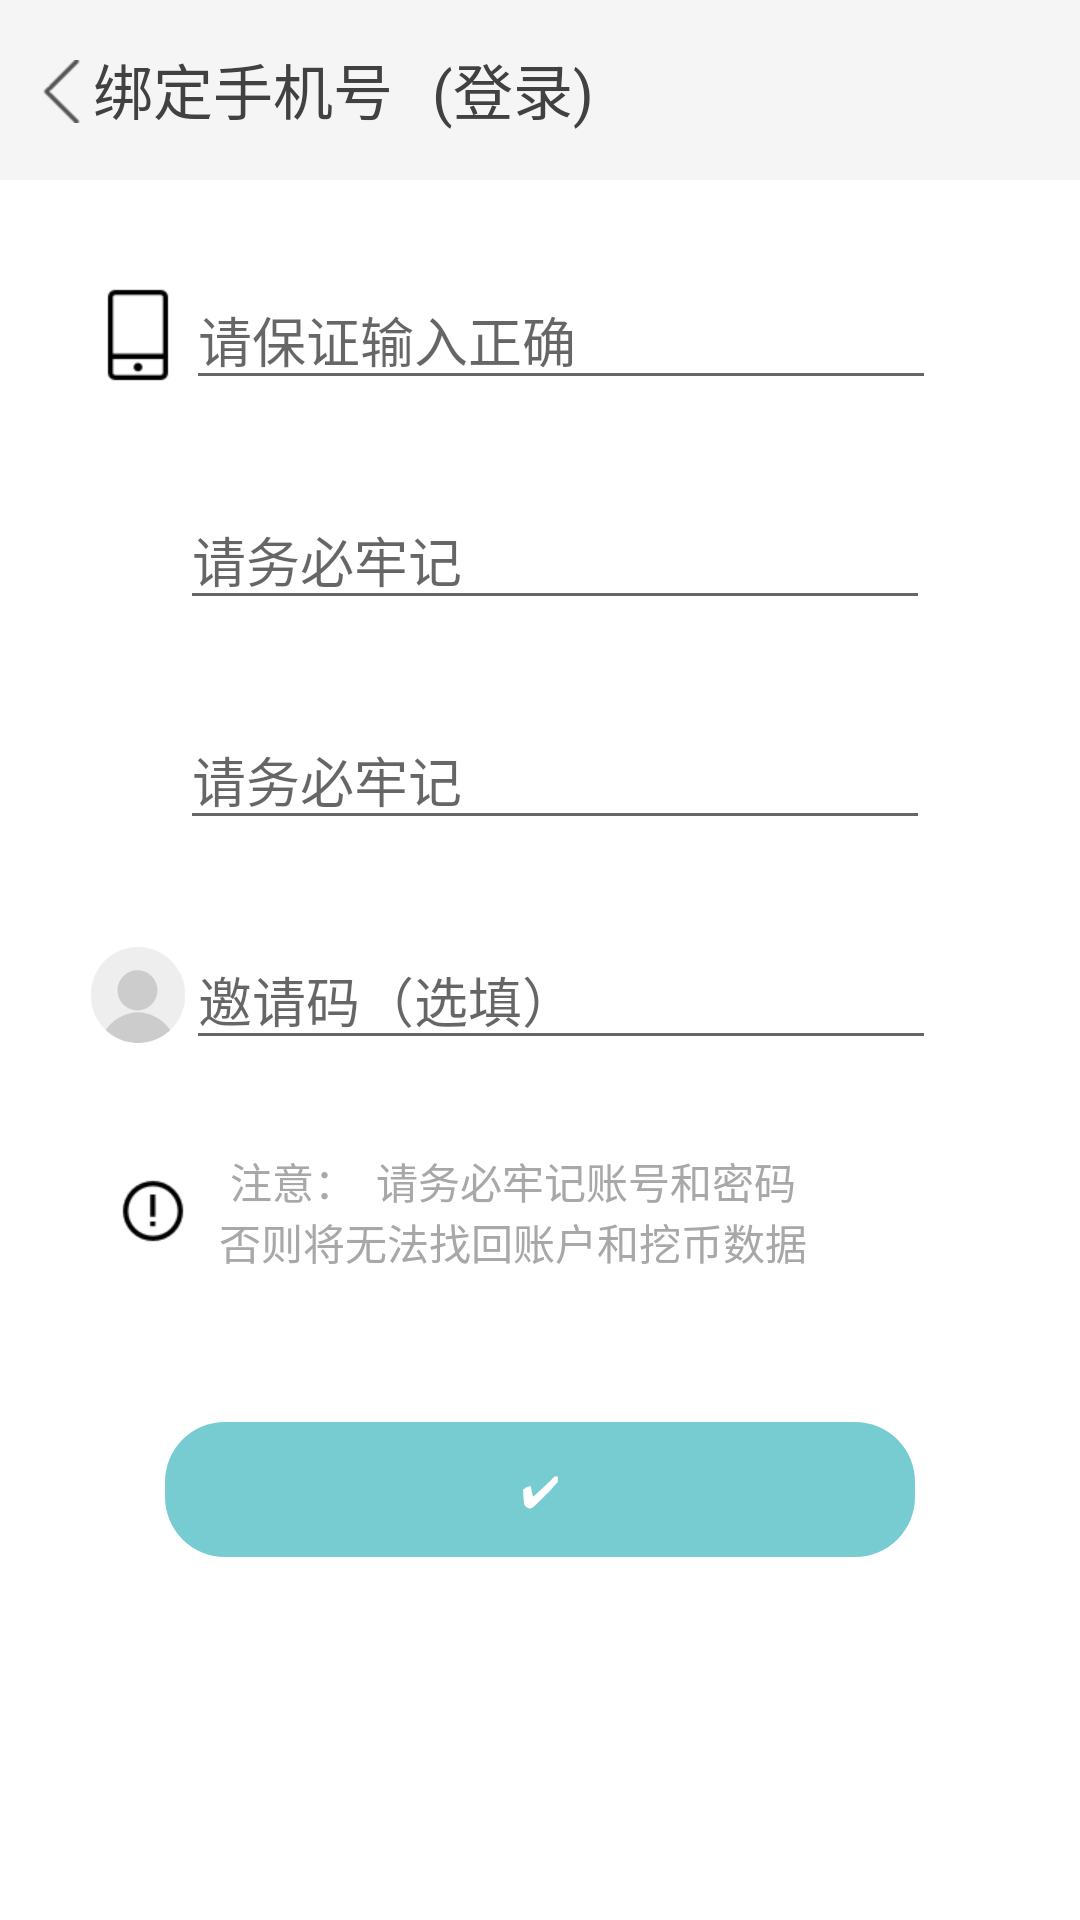

Screen size 1080w x 1920h. Icon name, then its center in pixels as [x,y]:
back: [61,91]
head: [138,1006]
mobile: [138,335]
